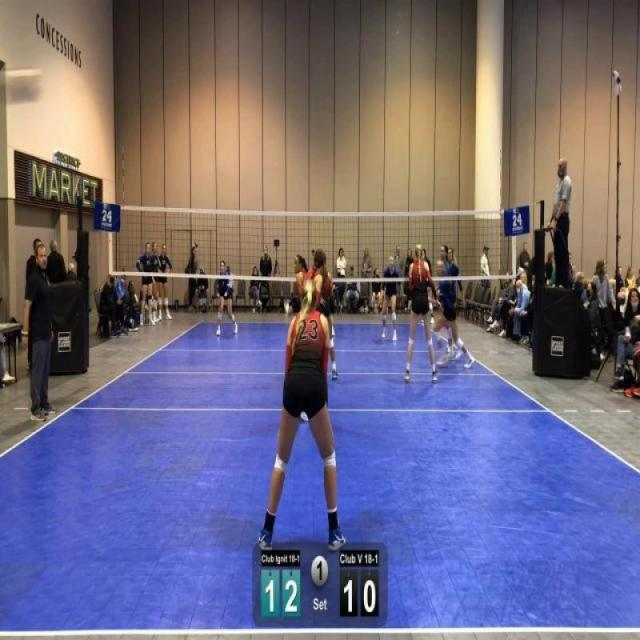volleyball: (0, 62, 47, 110)
